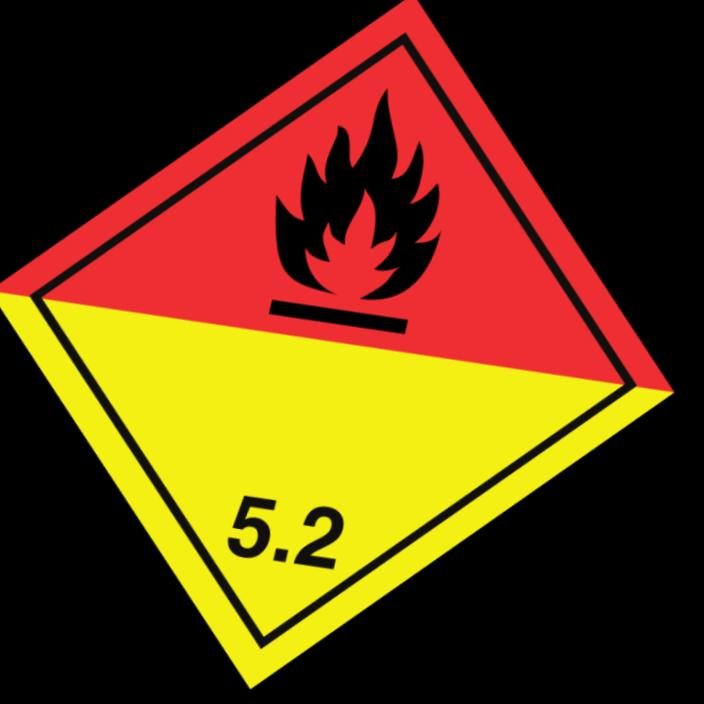defibrillator sign: (0, 0, 673, 689)
